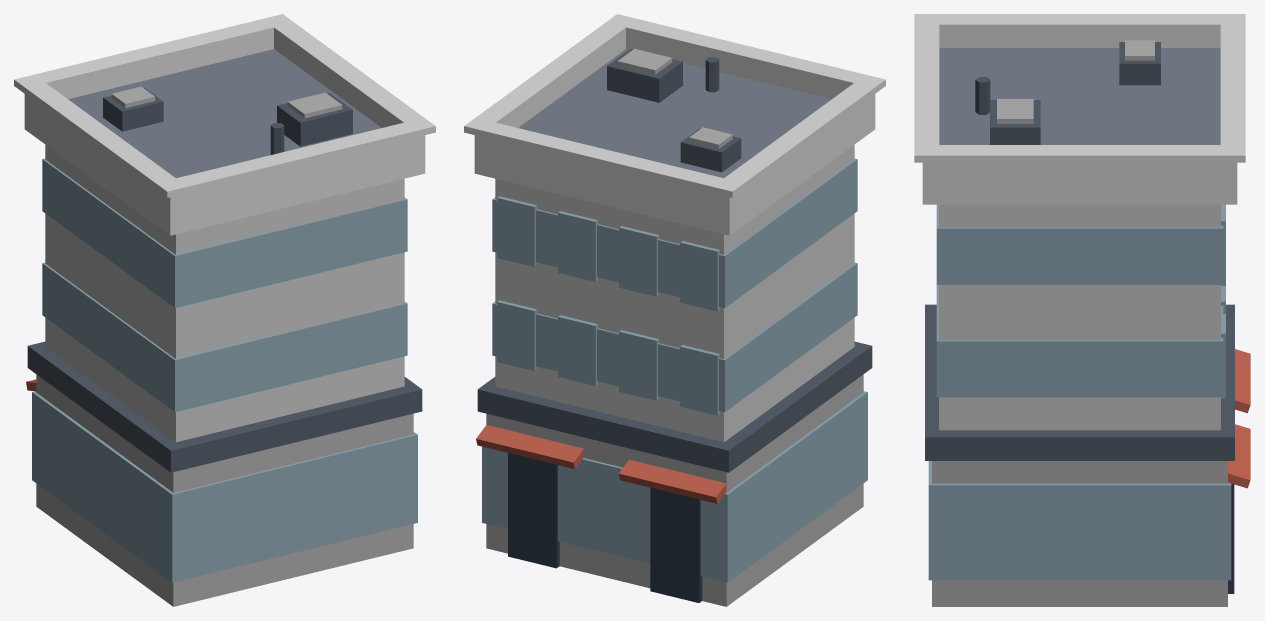
The model's file is building_small_storefront.glb.
3 renders of one model, left to right at view 1: azimuth 30°, elevation 25°; view 2: azimuth 150°, elevation 25°; view 3: azimuth 270°, elevation 25°, orthographic. The views are drawn at different scales.
Parts seen in each view (by area): view 1: building_small_storefront; view 2: building_small_storefront; view 3: building_small_storefront.
Boxes of the visible parts, x1,y1,x2,y2 form: building_small_storefront: [14, 14, 435, 606]; building_small_storefront: [464, 14, 885, 606]; building_small_storefront: [914, 14, 1250, 606].
Bounding box in the file's own units: 7.14 × 11 × 7.16.
